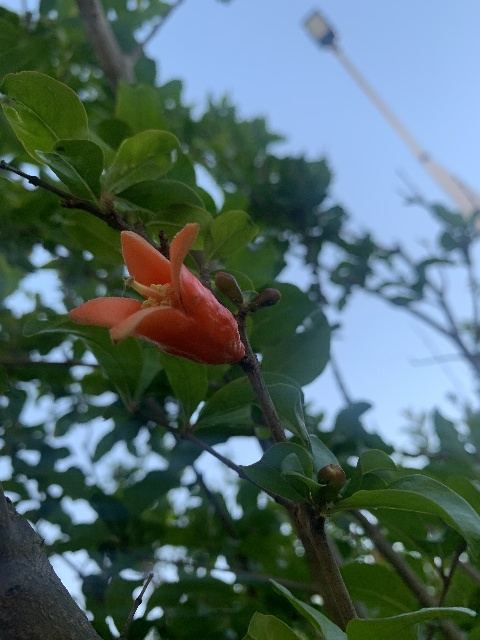bud: (214, 271, 244, 307), (317, 463, 346, 496), (252, 287, 281, 308)
flower: (69, 225, 242, 368)
